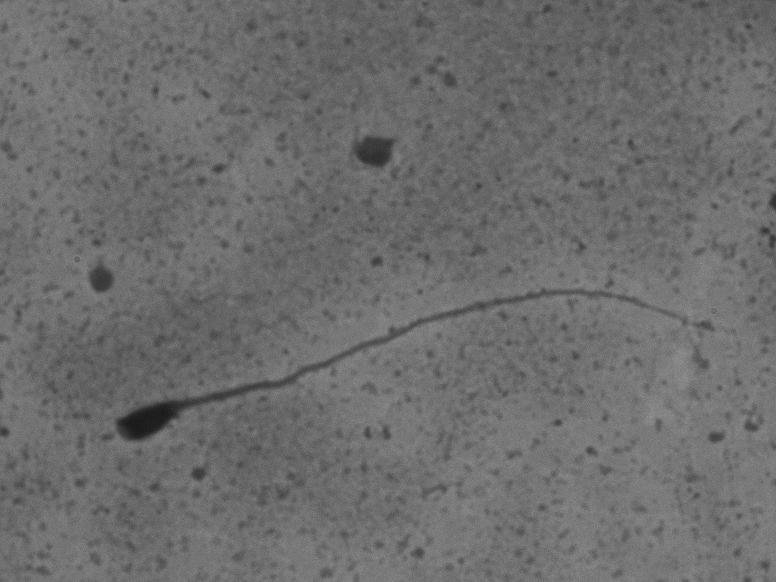Abnormal: (101, 264, 721, 473)
